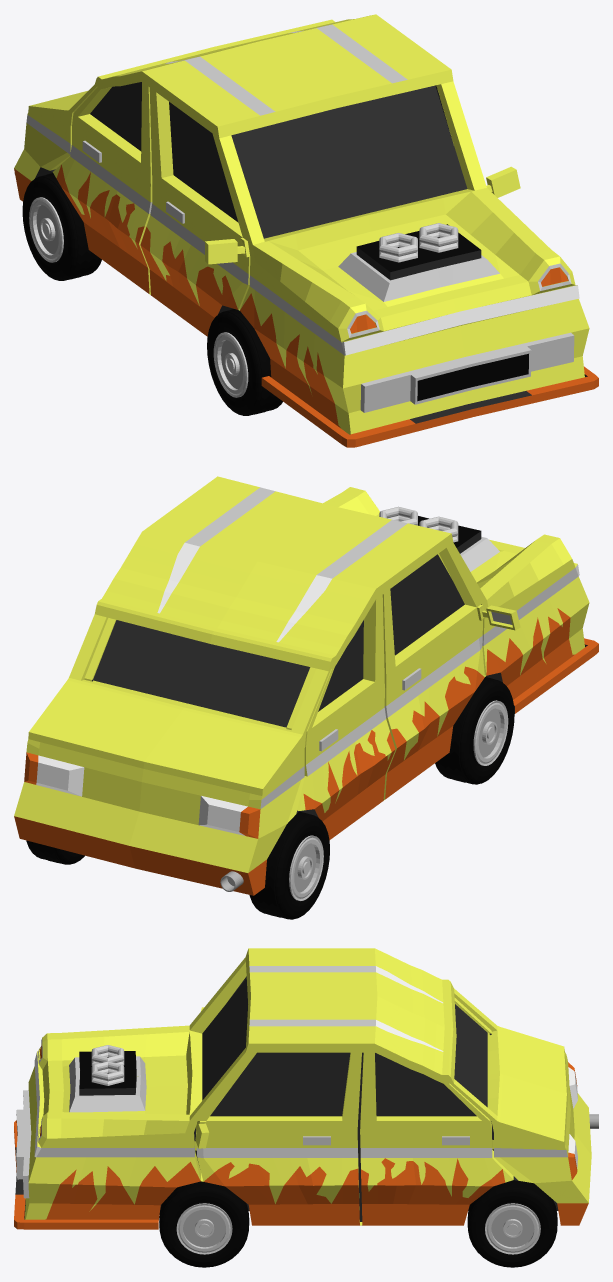
3 views of the same model, one above another, from view 1: azimuth 30°, elevation 25°; view 2: azimuth 150°, elevation 25°; view 3: azimuth 270°, elevation 25° (orthographic). The views are drawn at different scales.
Visible parts, largest first — view 1: BODY, WHEEL.004, WHEEL.001; view 2: BODY, WHEEL.004, WHEEL.001, WHEEL.002; view 3: BODY, WHEEL.002, WHEEL.003.
Boxes of the visible parts, <box> form: BODY: <box>14,14,598,447</box>; WHEEL.004: <box>22,173,101,280</box>; WHEEL.001: <box>207,309,282,415</box>; BODY: <box>14,476,598,895</box>; WHEEL.004: <box>249,811,329,919</box>; WHEEL.001: <box>435,677,514,784</box>; WHEEL.002: <box>26,840,84,864</box>; BODY: <box>14,948,591,1229</box>; WHEEL.002: <box>467,1180,557,1267</box>; WHEEL.003: <box>159,1181,249,1267</box>.
Bounding box in the file's own units: 131 × 106 × 254.
